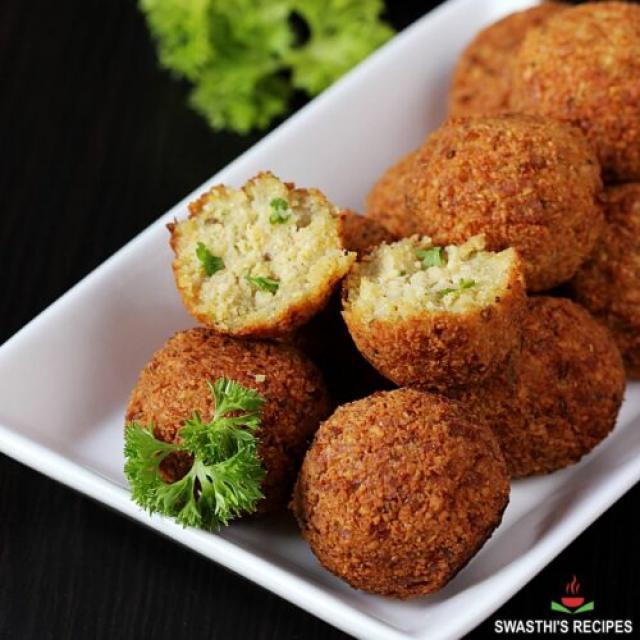flafel: (292, 384, 506, 600), (121, 328, 317, 522), (403, 112, 603, 279), (341, 234, 528, 385), (171, 168, 341, 334)
